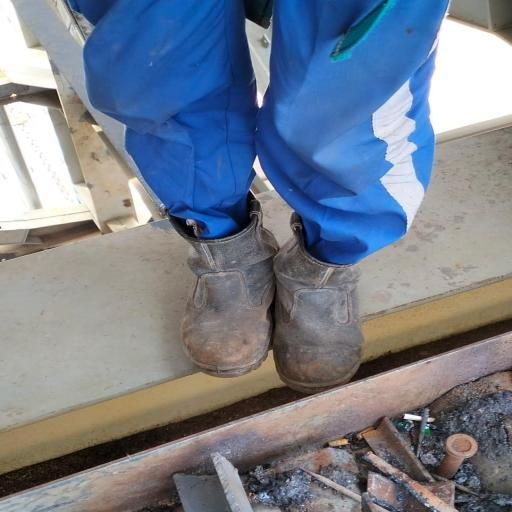safety_shoe: (162, 200, 276, 380), (267, 216, 371, 394)
